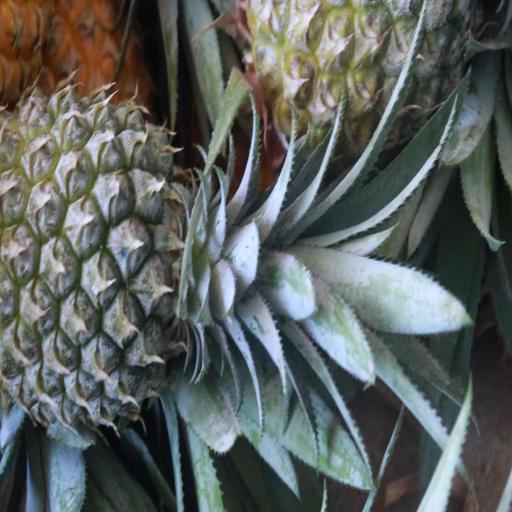------------------------------: (250, 0, 482, 156)
